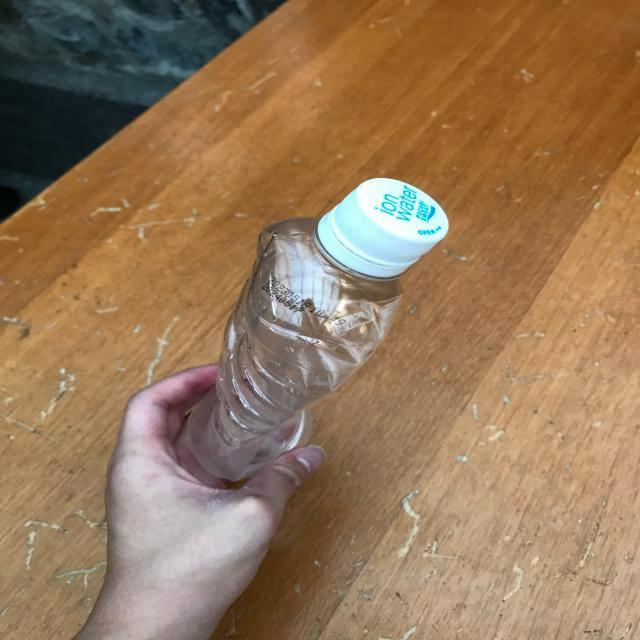bottle: (186, 179, 449, 482)
